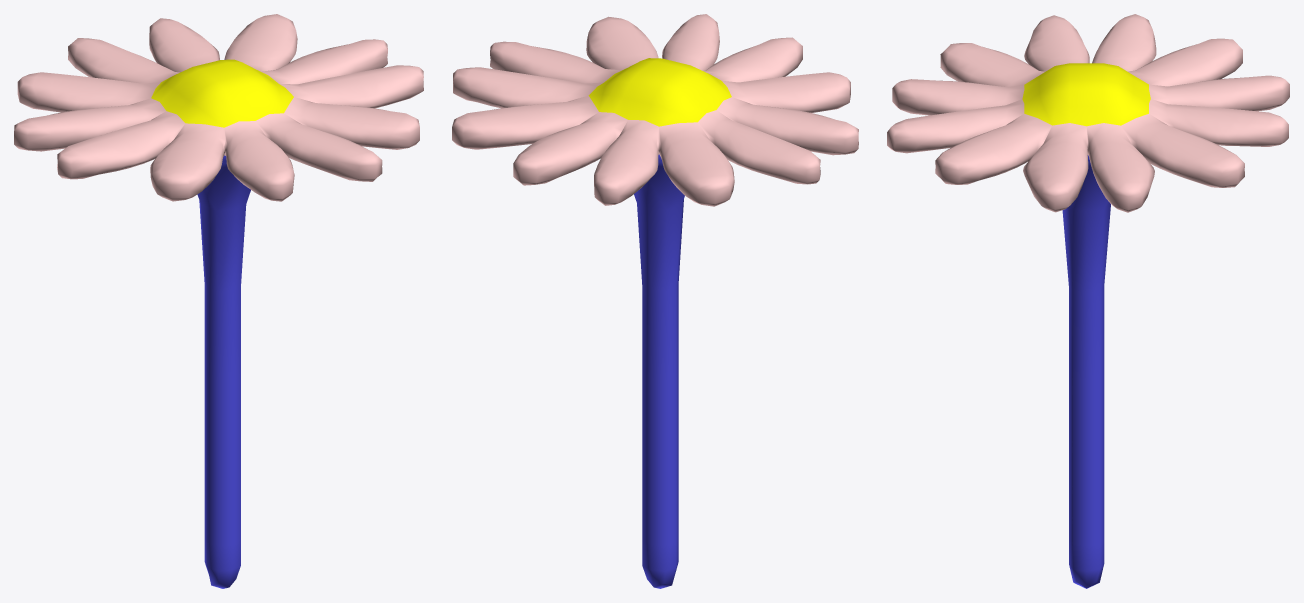
The model's file is flower.fbx.
3 renders of one model, left to right at view 1: azimuth 30°, elevation 25°; view 2: azimuth 150°, elevation 25°; view 3: azimuth 270°, elevation 25°, orthographic.
Visible parts, largest first — view 1: flower; view 2: flower; view 3: flower.
Part boxes in pixels (x1,y1,x2,y2): flower: (14,14,423,588); flower: (452,14,858,588); flower: (887,14,1289,588).
Size of the model in its own units: 1.06 by 1.42 by 1.
